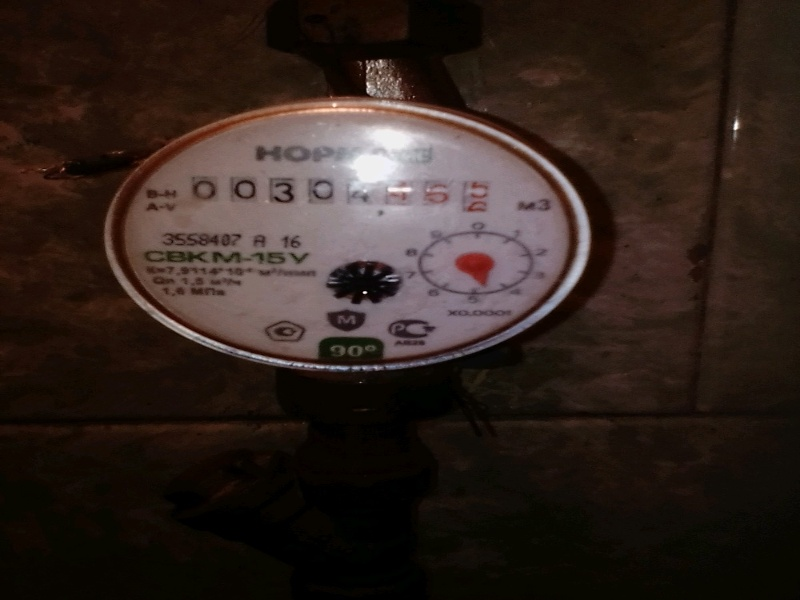meter: (190, 166, 493, 220)
